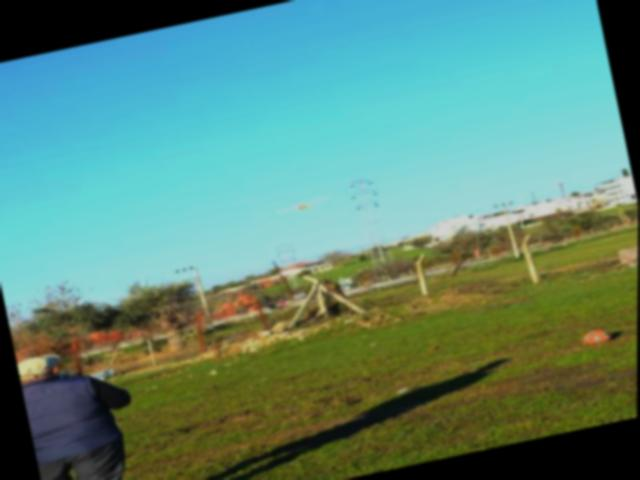iha: (274, 197, 327, 215)
